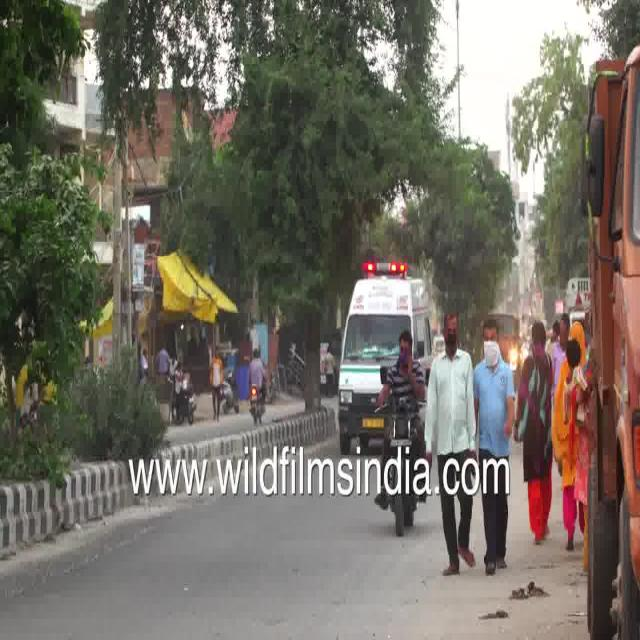ambulance: (315, 243, 443, 463)
